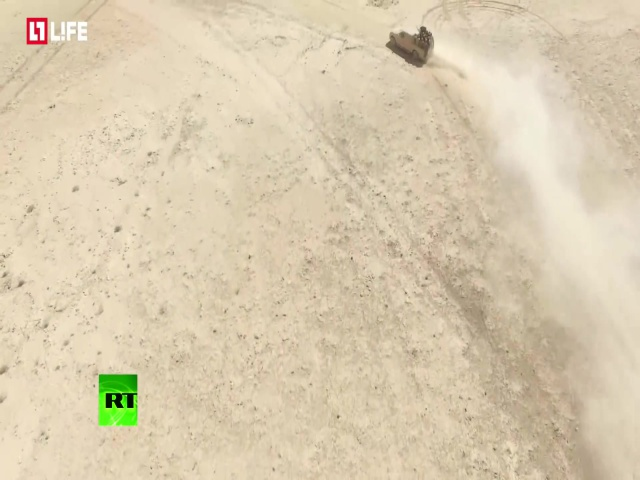vehicle: (389, 21, 435, 64)
